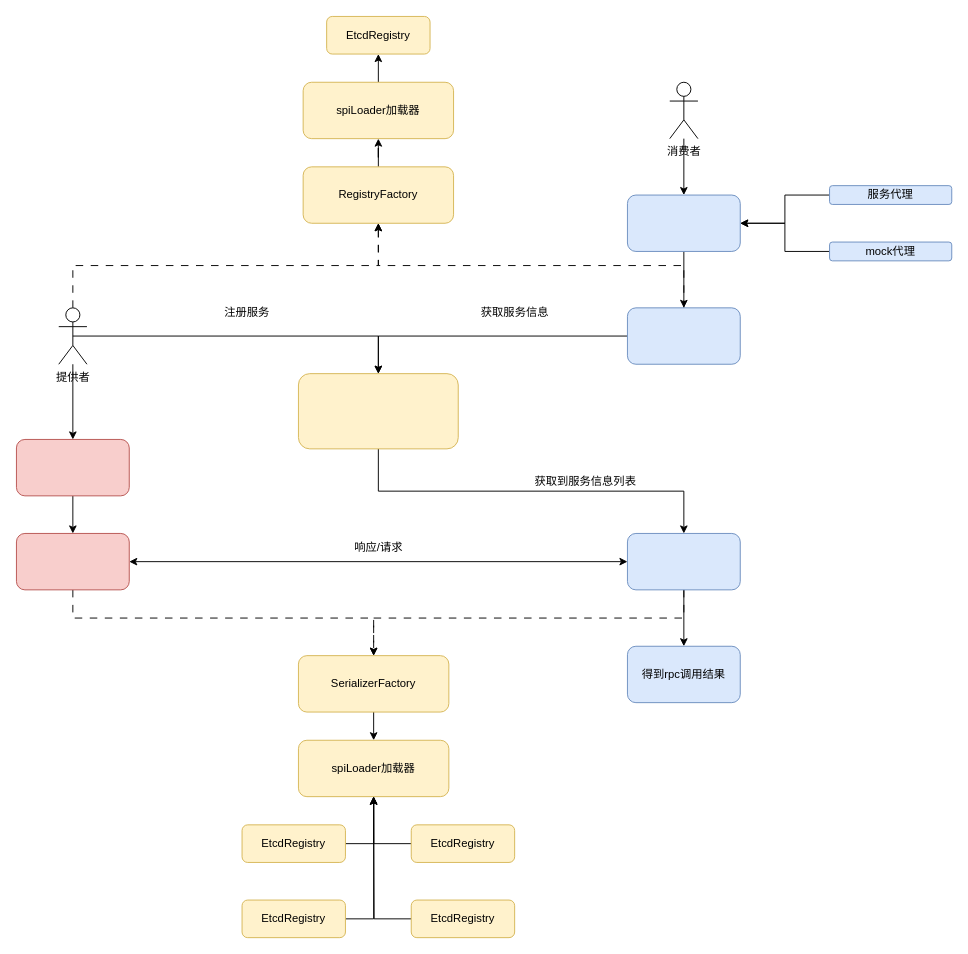
This 968x954 diagram has some shape labels left out. The centre of each missing label's shape, as x and y in pixels:
ETCD注册中心: the point at 378,411
Handler: the point at 72,561
代理对象invoke: the point at 683,561
代理工厂: the point at 683,222
启动Vertx作为web服务: the point at 72,467
获取代理对象: the point at 683,335
